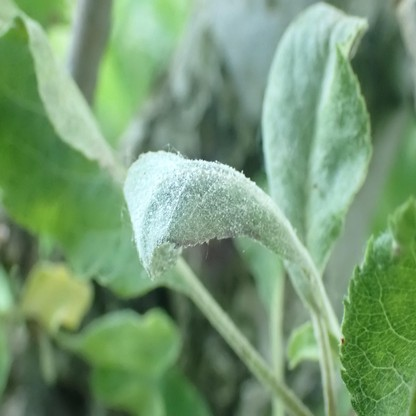powder: (261, 1, 374, 272), (123, 148, 324, 285), (390, 369, 416, 416)
